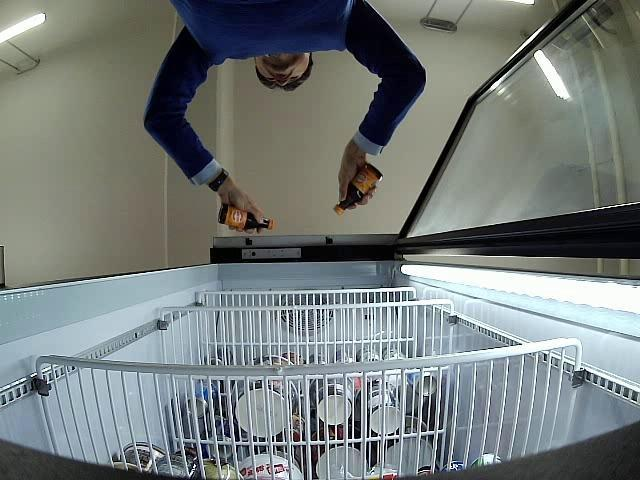17_vita500: (333, 162, 383, 215), (218, 202, 278, 230)
